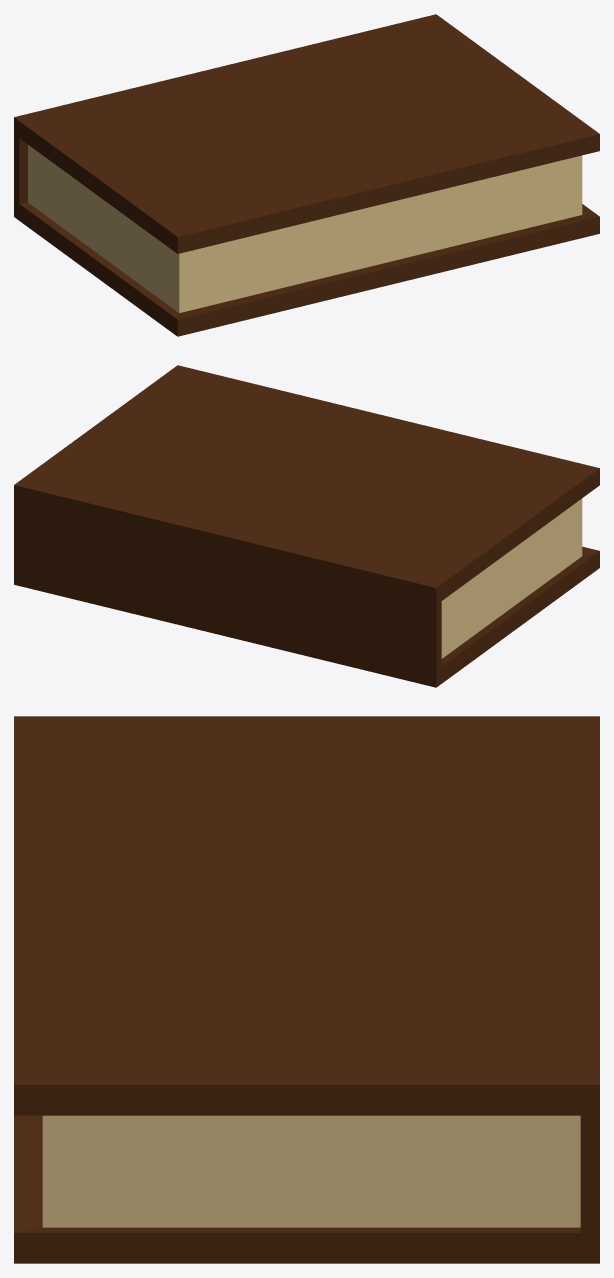
File: Book1_009.fbx
The picture shows the model from 3 angles, top to bottom: view 1: azimuth 30°, elevation 25°; view 2: azimuth 150°, elevation 25°; view 3: azimuth 270°, elevation 25°; orthographic projection. The views are drawn at different scales.
Parts seen in each view (by area): view 1: Book1.009; view 2: Book1.009; view 3: Book1.009.
Boxes of the visible parts, x1,y1,x2,y2 form: Book1.009: (14,14,599,336); Book1.009: (14,365,599,687); Book1.009: (14,716,599,1263).
Bounding box in the file's own units: 45.39 × 10.24 × 30.47.
